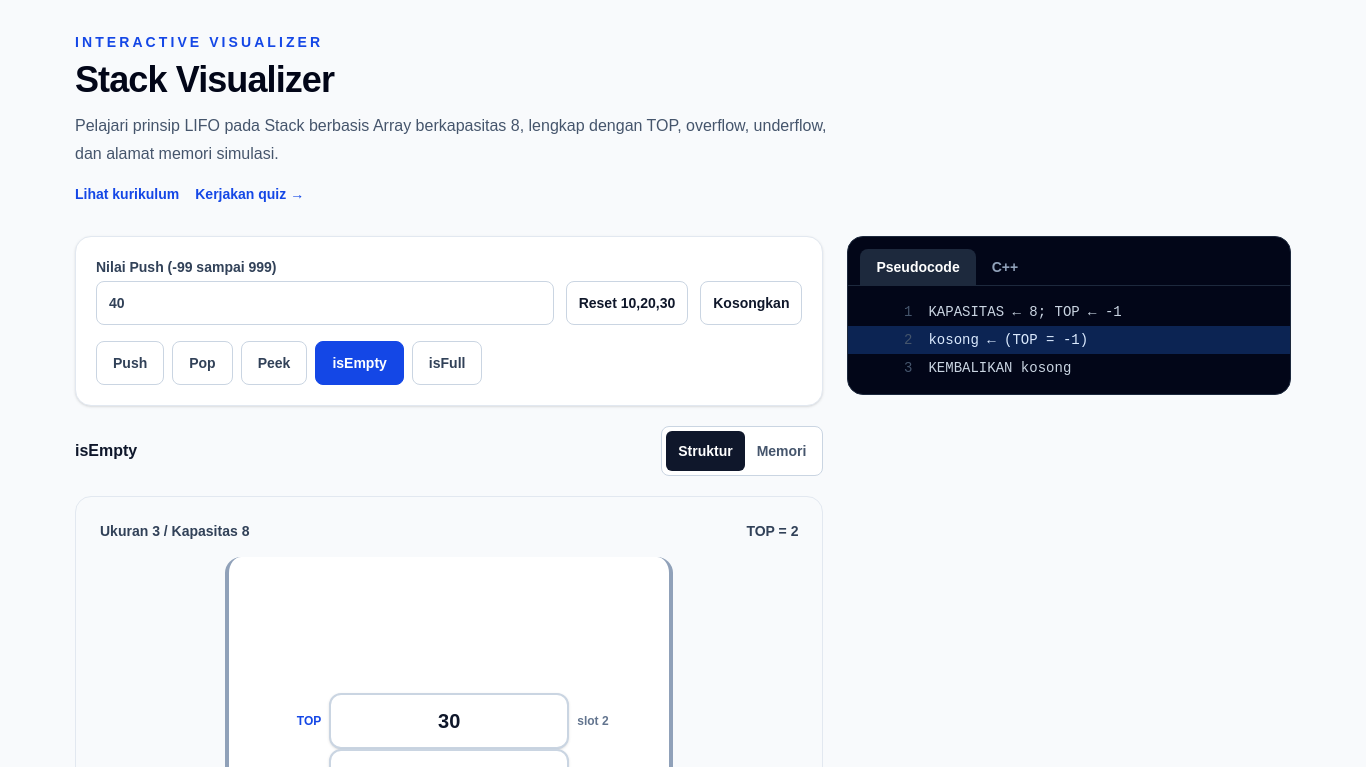
Test: StackVisualizer › switches to Memory and shows constant complexity
Click the button "Memori" at [782, 451], box [745,431,818,471]
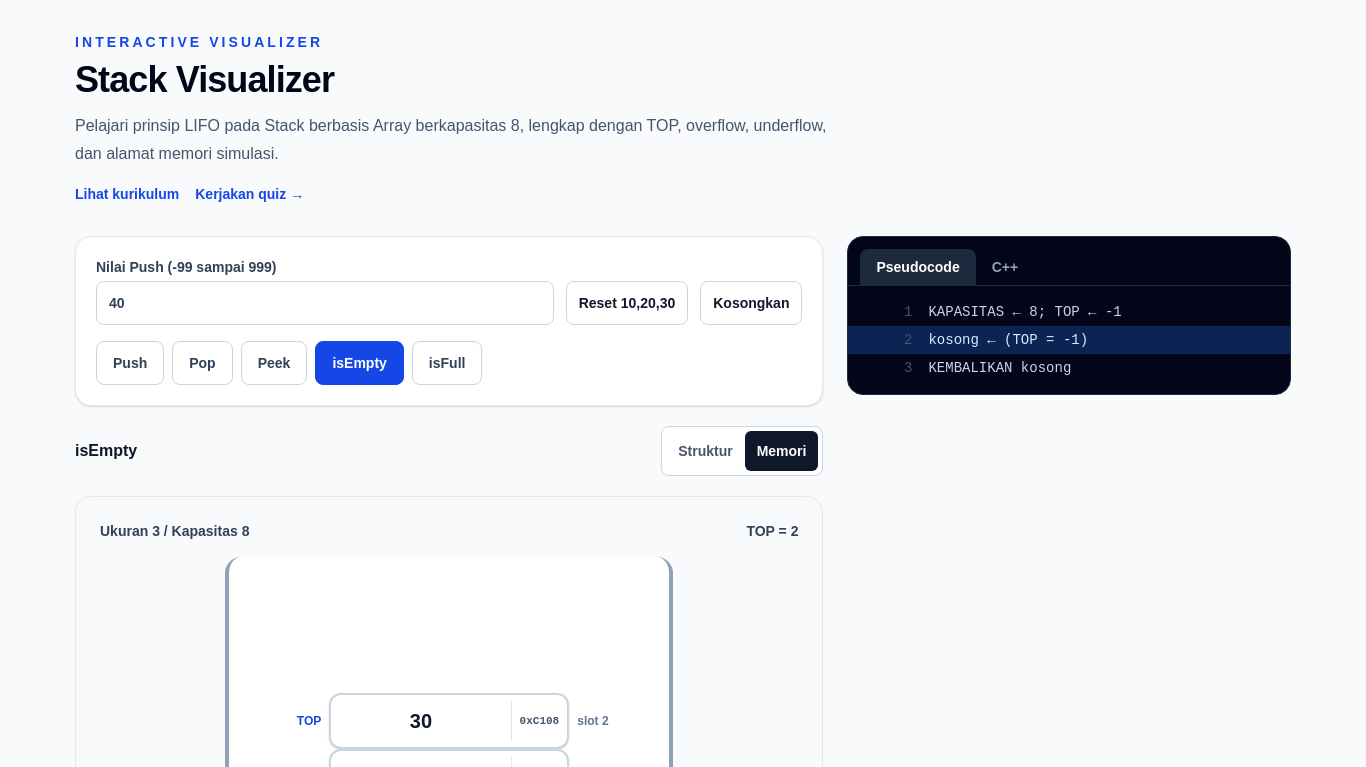
Click the button "Peek" at [274, 363], box [241,341,307,385]
(page scrolled)
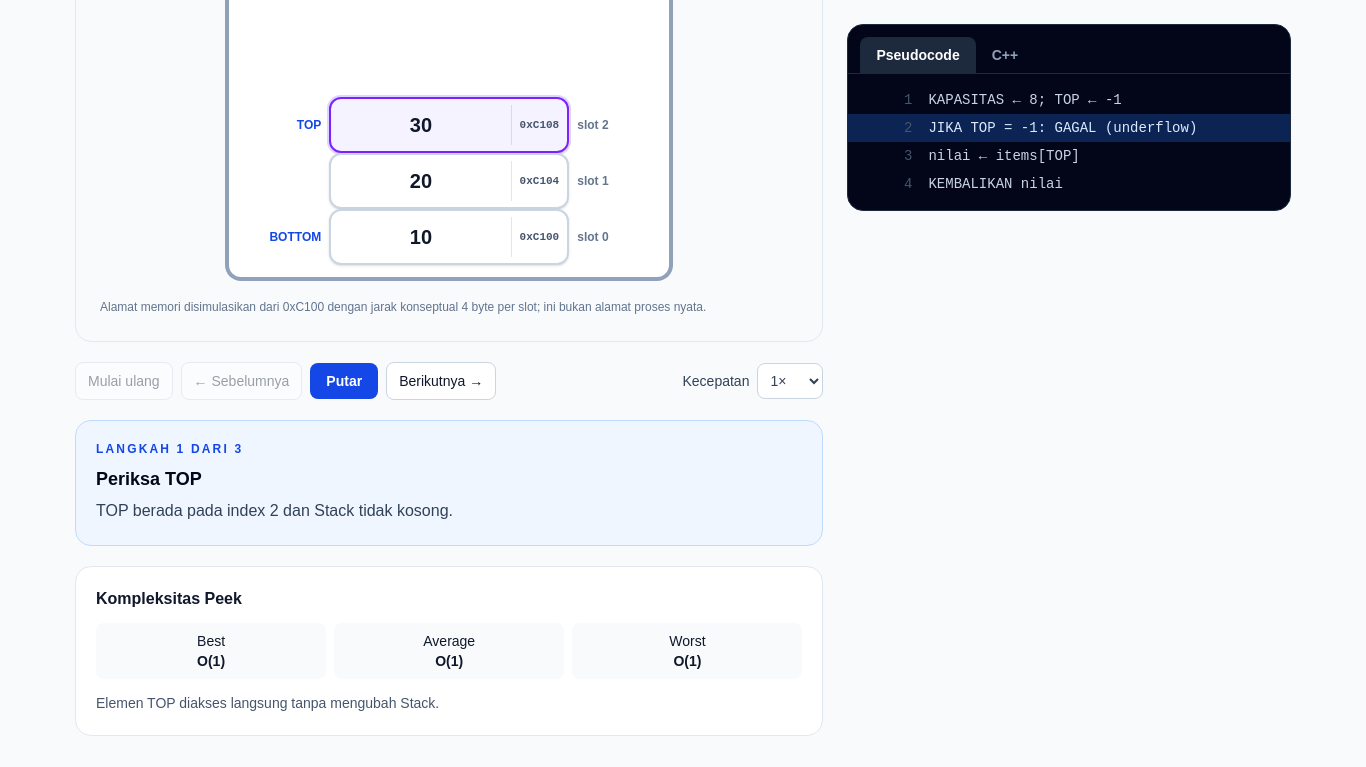
Check: the text "O(1)" is shown 3 times, box [197,653,225,669]; [435,653,463,669]; [673,653,701,669]
Check: the heading "Kompleksitas Peek" is shown, box [96,590,242,607]
